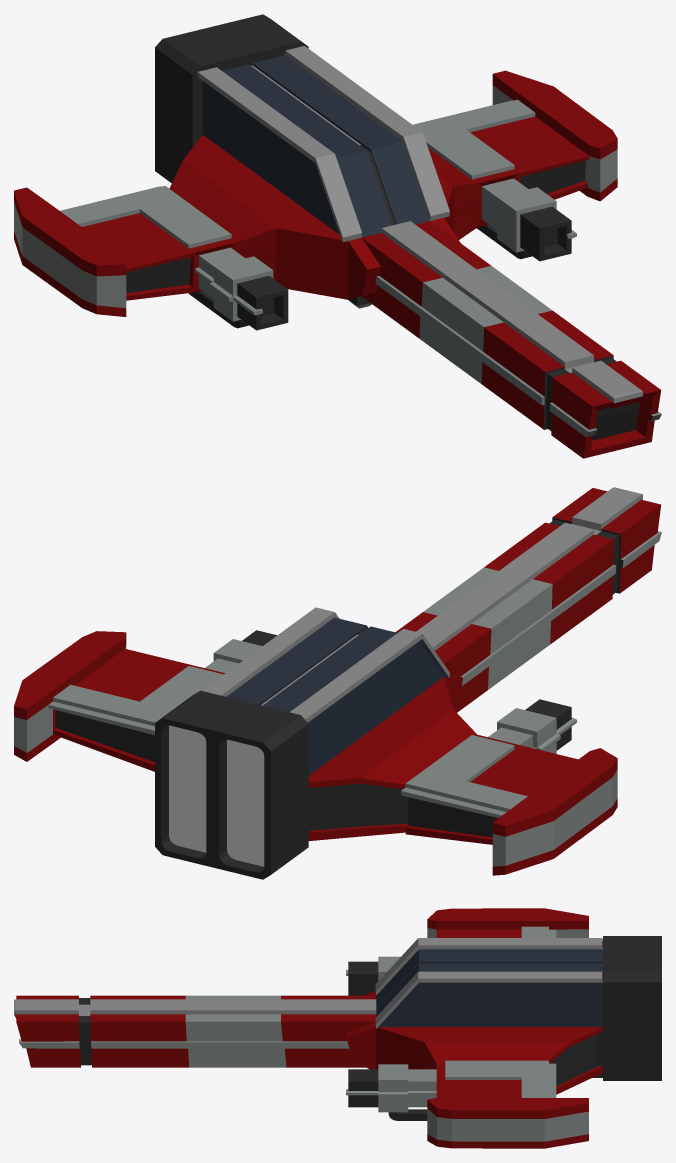
The model's file is SpaceShip.fbx.
The picture shows the model from 3 angles, top to bottom: view 1: azimuth 30°, elevation 25°; view 2: azimuth 150°, elevation 25°; view 3: azimuth 270°, elevation 25°; orthographic projection. The views are drawn at different scales.
Visible parts, largest first — view 1: Cube; view 2: Cube; view 3: Cube.
Part boxes in pixels (bbox=[...]): Cube: bbox=[14, 14, 661, 458]; Cube: bbox=[14, 487, 661, 879]; Cube: bbox=[14, 908, 661, 1148].
Size of the model in its own units: 1724 by 454 by 2334.
